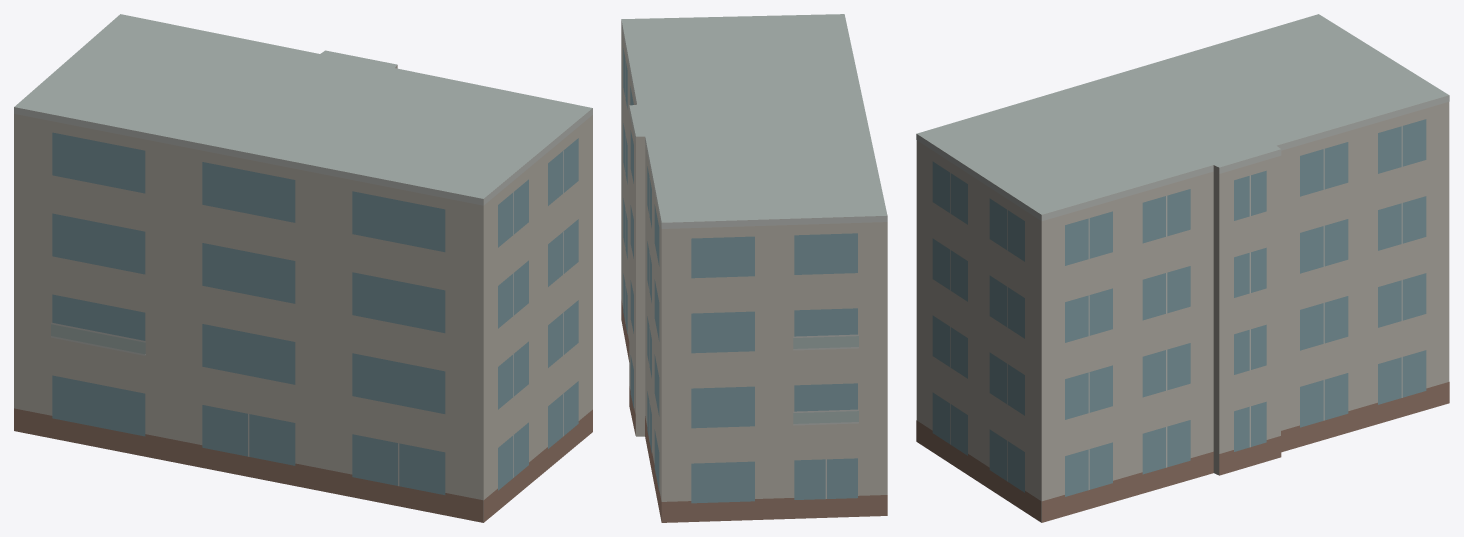
Rendered from survey-upis-33033853.glb.
3 renders of one model, left to right at view 1: azimuth 30°, elevation 25°; view 2: azimuth 150°, elevation 25°; view 3: azimuth 270°, elevation 25°, orthographic. The views are drawn at different scales.
Parts seen in each view (by area): view 1: survey-upis-33033853.tmp; view 2: survey-upis-33033853.tmp; view 3: survey-upis-33033853.tmp.
Part boxes in pixels (x1,y1,x2,y2): survey-upis-33033853.tmp: [14, 14, 592, 522]; survey-upis-33033853.tmp: [621, 14, 887, 522]; survey-upis-33033853.tmp: [916, 14, 1449, 522].
Bounding box in the file's own units: 16.38 × 11.7 × 18.36.
